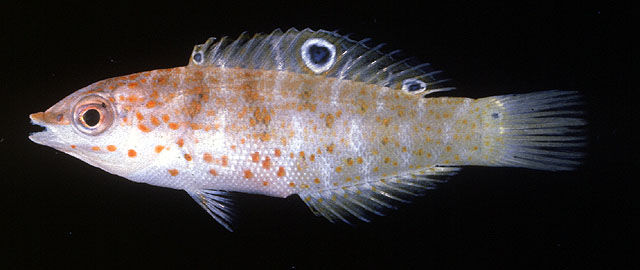fish: (27, 26, 583, 232)
